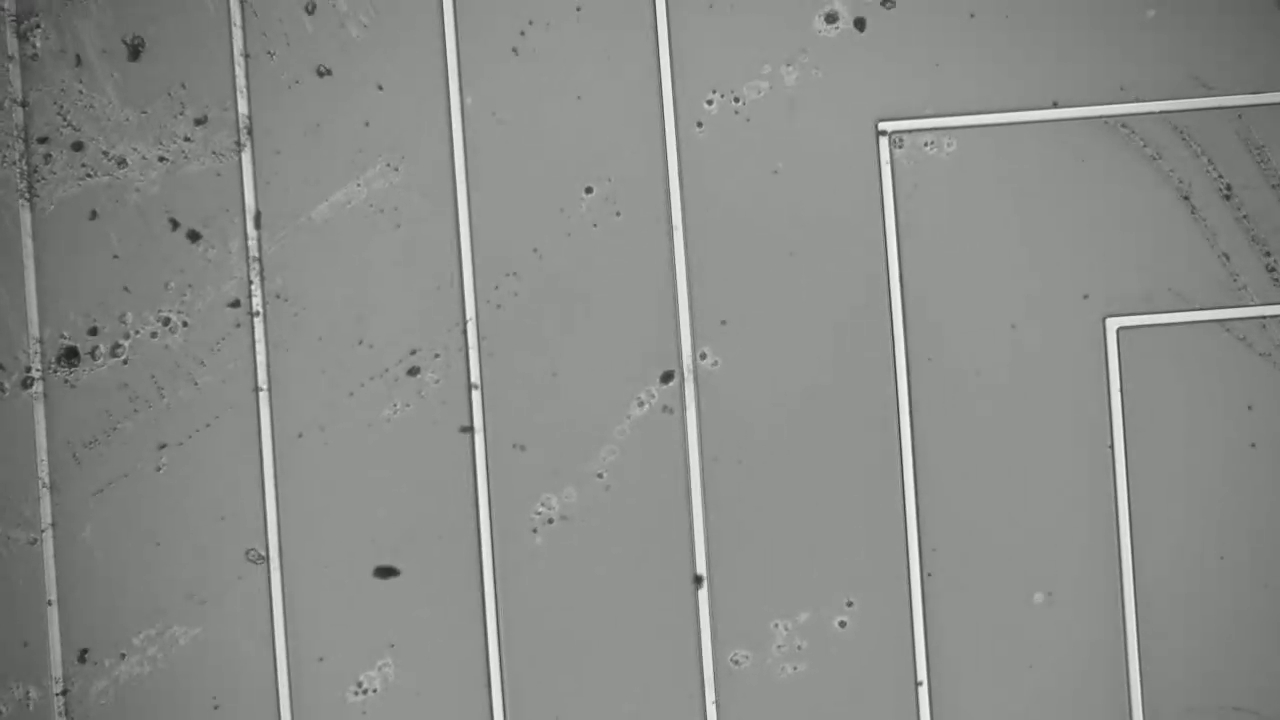scratch: (1098, 84, 1280, 379)
stains_enbedded: (235, 200, 273, 233), (12, 369, 47, 390), (690, 567, 714, 595)
